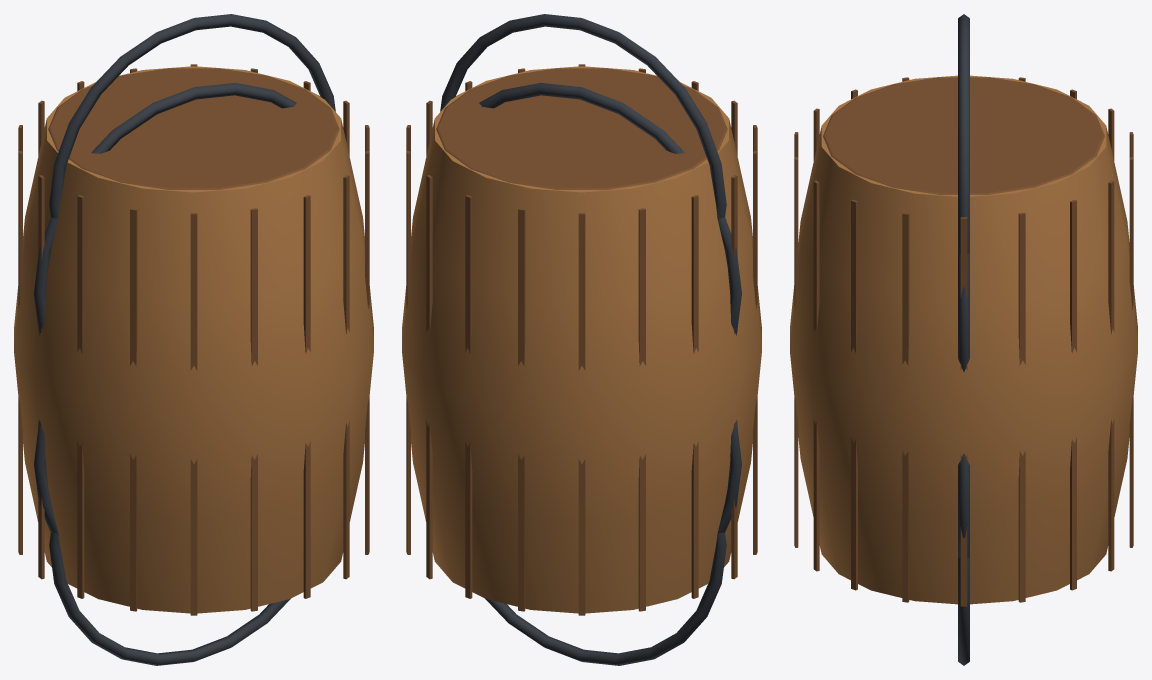
File: mk_barrel.glb
3 renders of one model, left to right at view 1: azimuth 30°, elevation 25°; view 2: azimuth 150°, elevation 25°; view 3: azimuth 270°, elevation 25°, orthographic. The views are drawn at different scales.
Parts seen in each view (by area): view 1: mk_barrel_body; view 2: mk_barrel_body; view 3: mk_barrel_body.
Boxes of the visible parts, x1,y1,x2,y2 form: mk_barrel_body: (14,14,373,665); mk_barrel_body: (402,14,761,665); mk_barrel_body: (790,14,1137,665).
Size of the model in its own units: 0.668 by 1.28 by 0.65.
